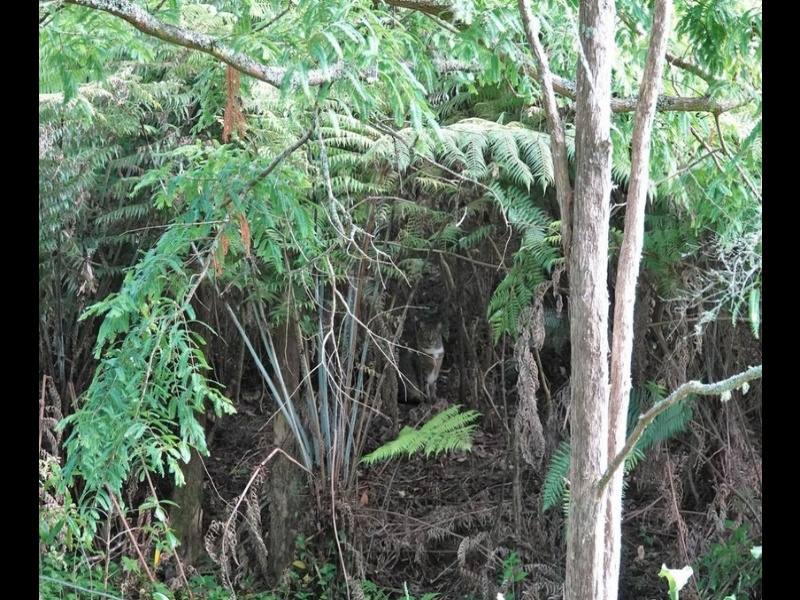cat: (389, 316, 452, 405)
